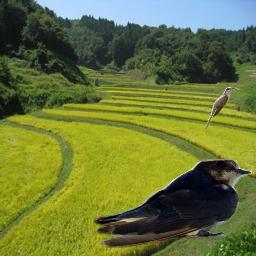Cuckoo: (204, 87, 235, 130)
Swallow: (93, 159, 252, 248)
